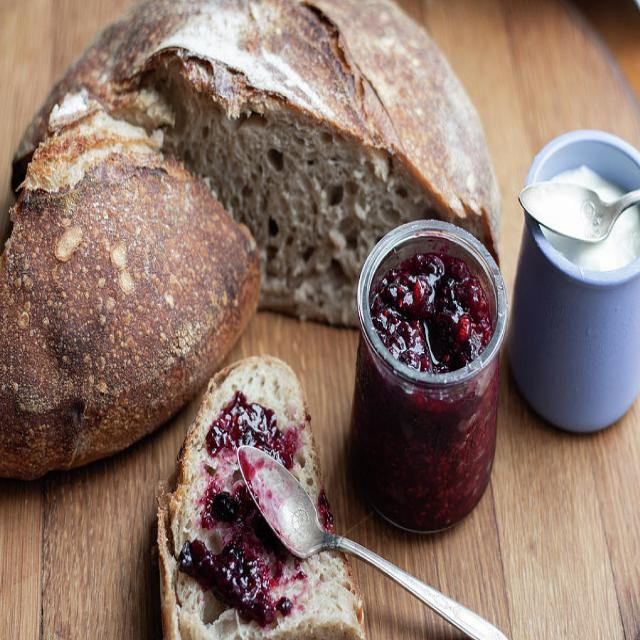Spread: (181, 392, 299, 616)
